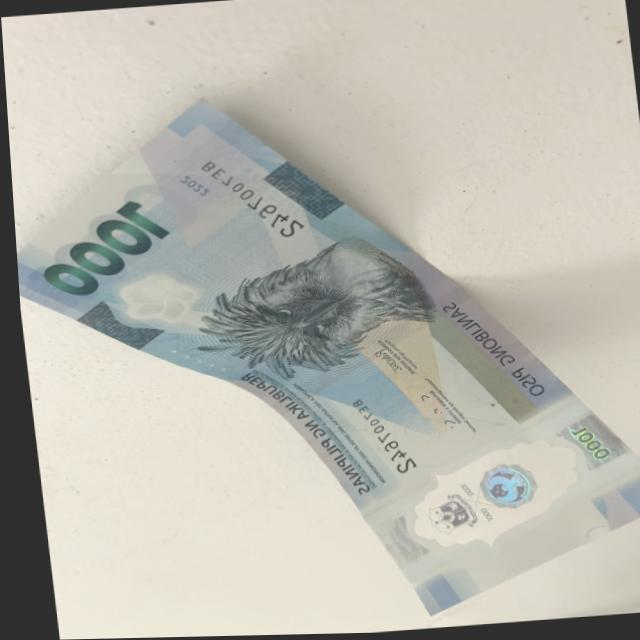clear_window: (338, 398, 640, 591)
eagle: (206, 238, 412, 384)
sampaguita: (100, 258, 218, 330)
security_thread: (248, 286, 477, 417)
serial_number: (189, 155, 305, 246), (338, 396, 410, 480)
value: (28, 193, 173, 303)
